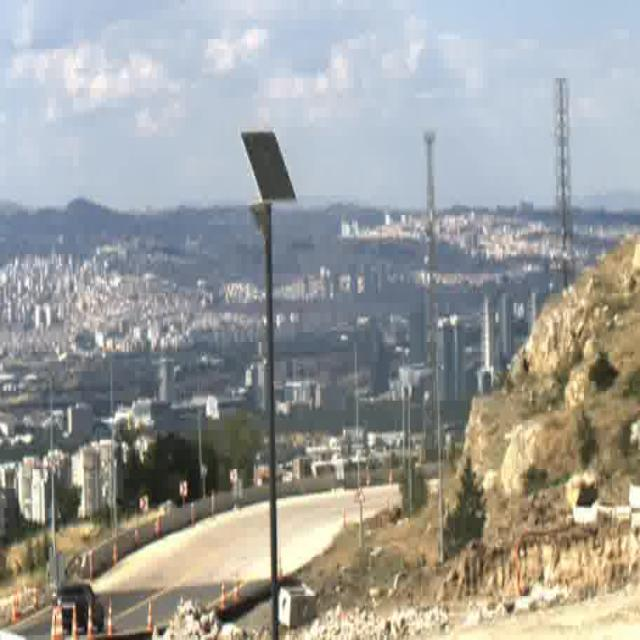Car: (54, 582, 106, 632)
